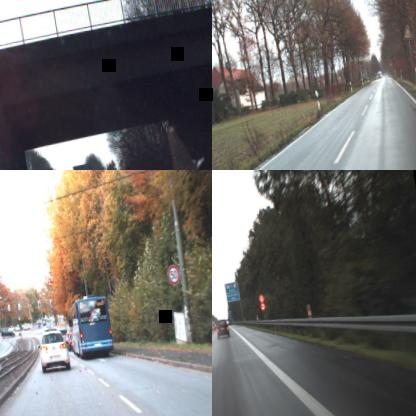CYCLES CROSSING: (400, 22, 414, 40)
no overtaking -trucks-: (260, 302, 266, 312)
speed limit 120: (258, 292, 264, 304)
speed limit 50: (166, 263, 180, 285)
